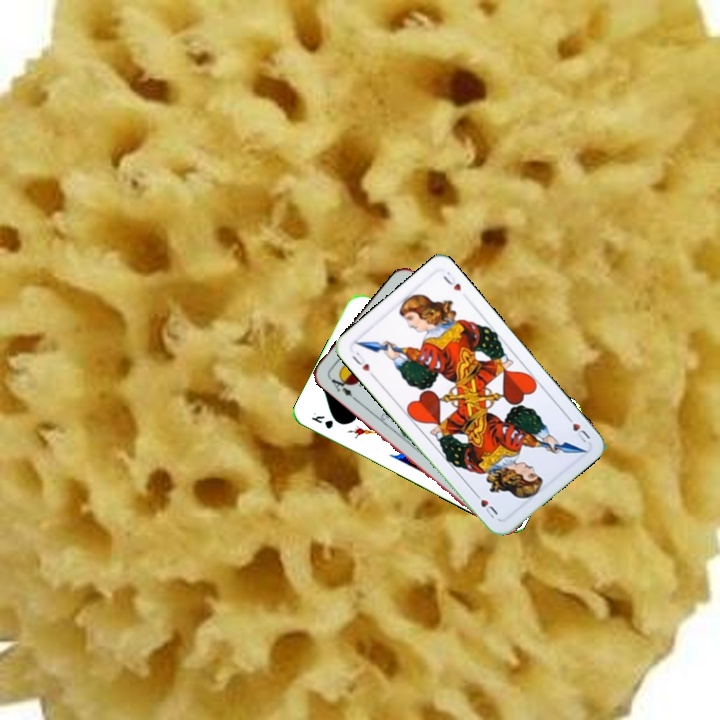EA: (325, 371, 359, 403)
GK: (308, 411, 336, 432)
HU: (562, 411, 593, 445), (348, 348, 377, 380)
